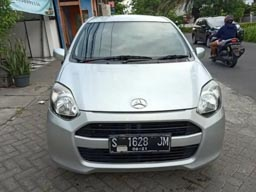plat: (108, 136, 170, 146)
